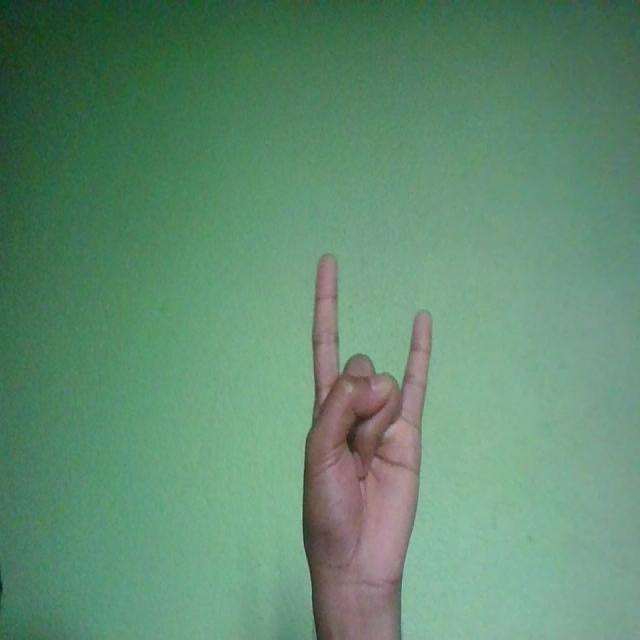open Plam: (302, 251, 433, 599)
